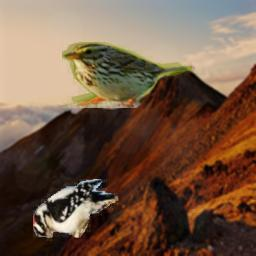Sparrow: (62, 42, 192, 108)
Woodpecker: (33, 179, 120, 241)
